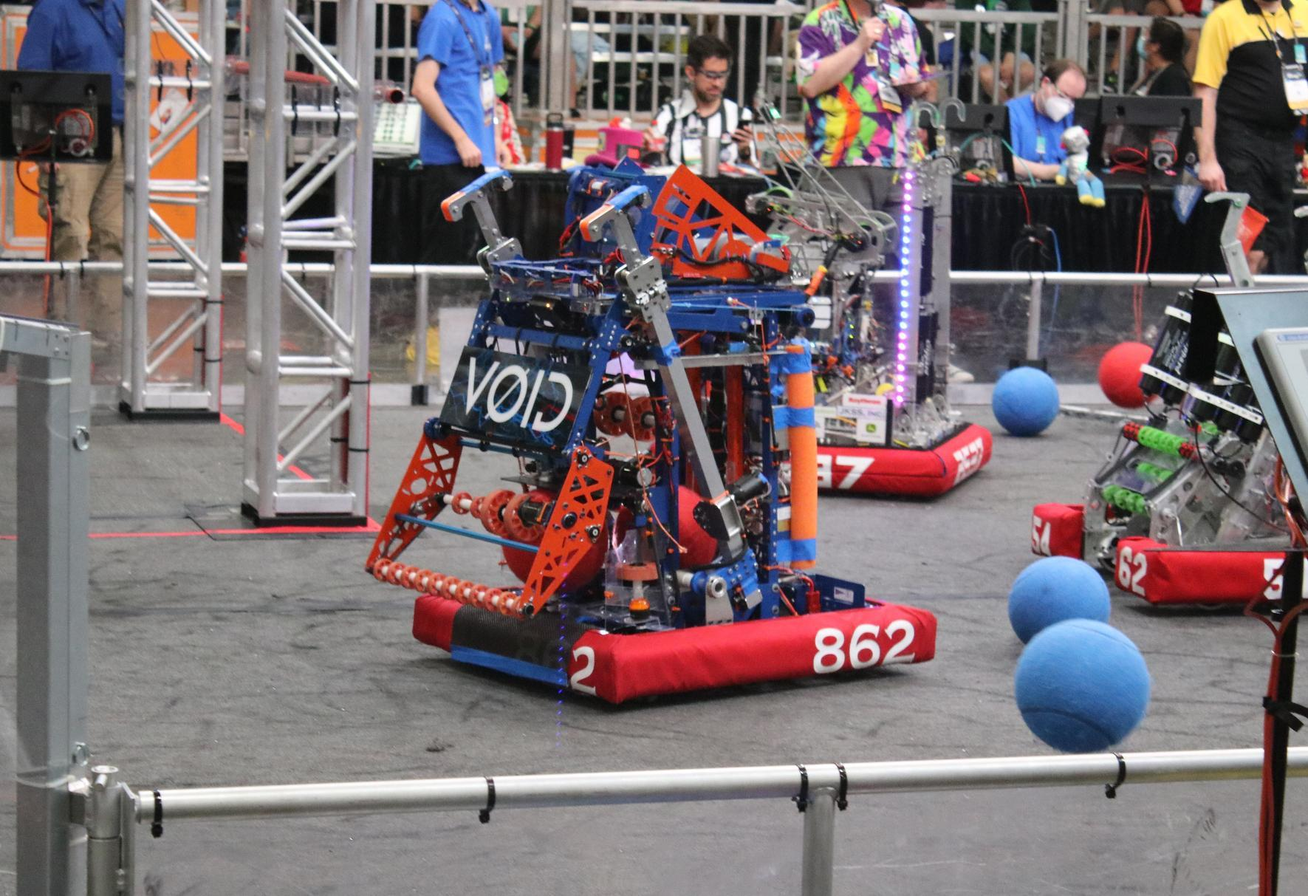robot: (359, 163, 945, 707), (1030, 182, 1308, 619), (737, 101, 997, 507)
